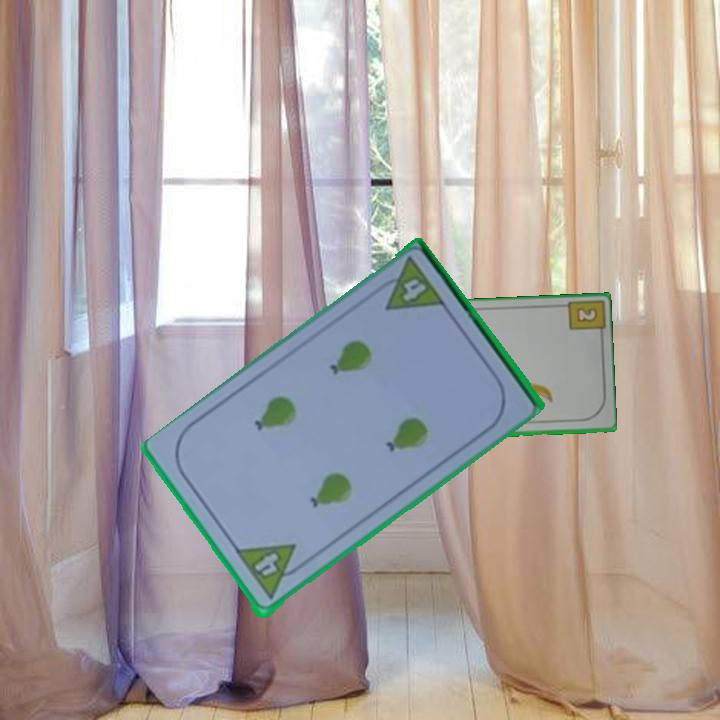2b: (573, 304, 600, 325)
4p: (232, 540, 310, 603), (369, 253, 448, 315)
